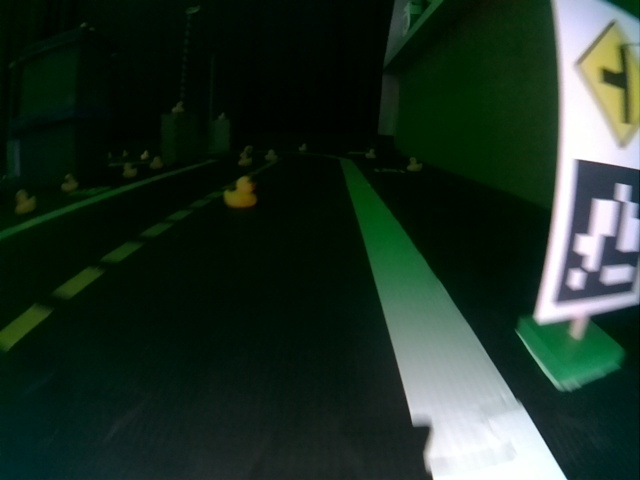Duckie: (224, 178, 254, 207), (16, 191, 38, 214), (61, 175, 76, 189), (407, 160, 422, 171), (124, 166, 134, 174), (241, 155, 250, 163), (151, 158, 159, 166), (141, 151, 150, 158), (269, 152, 276, 159), (365, 150, 371, 158), (300, 144, 305, 153)
Intersection sign: (571, 12, 638, 152)
QR code: (553, 159, 631, 308)
